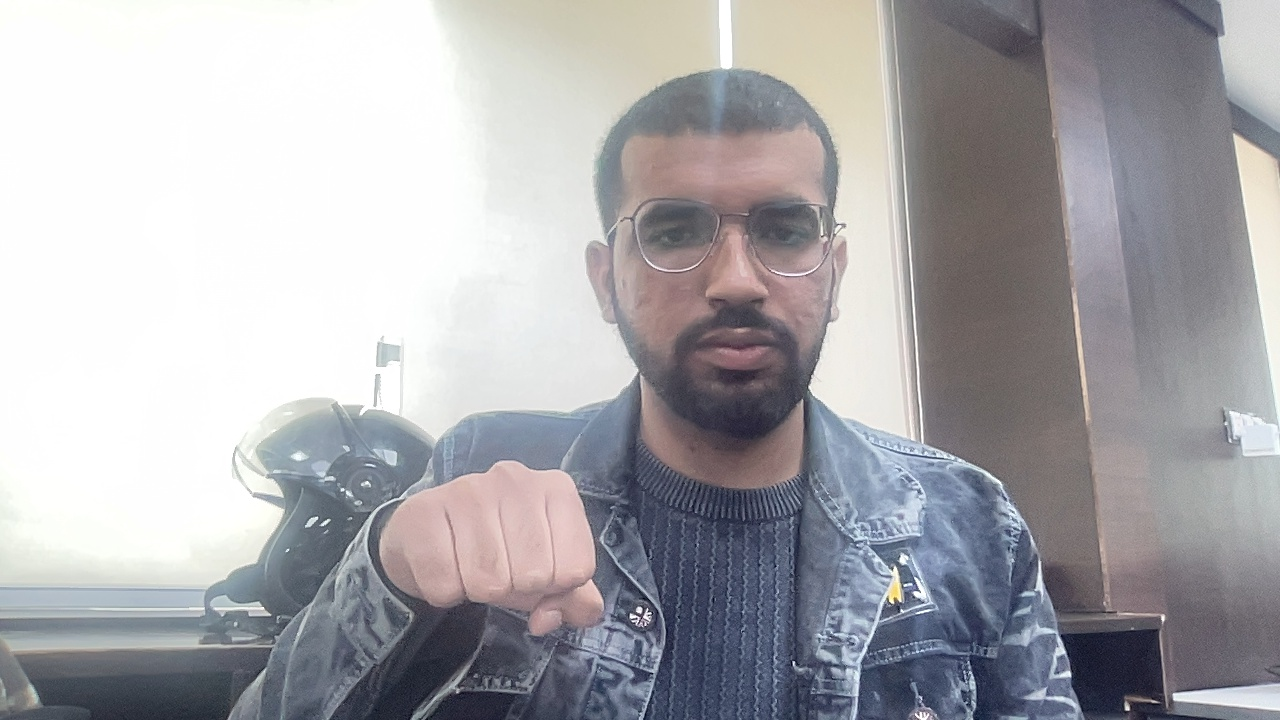Yes: (361, 470, 683, 649)
